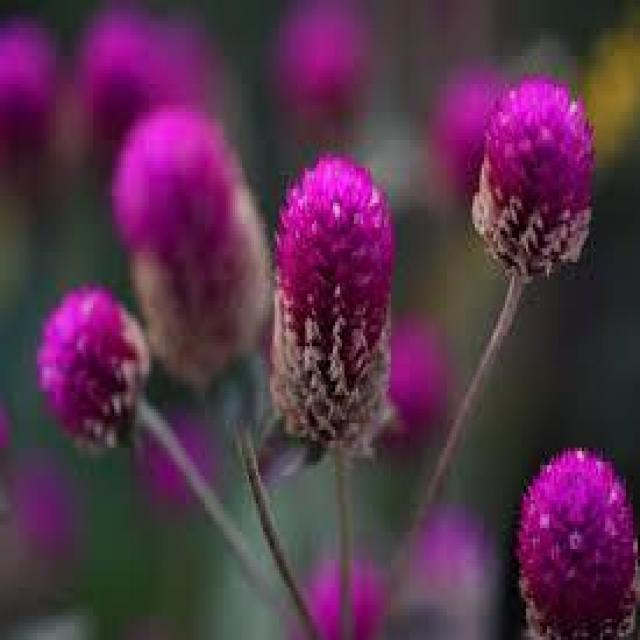organic waste: (270, 147, 405, 444), (470, 68, 608, 299), (503, 454, 635, 630), (32, 278, 170, 439)
